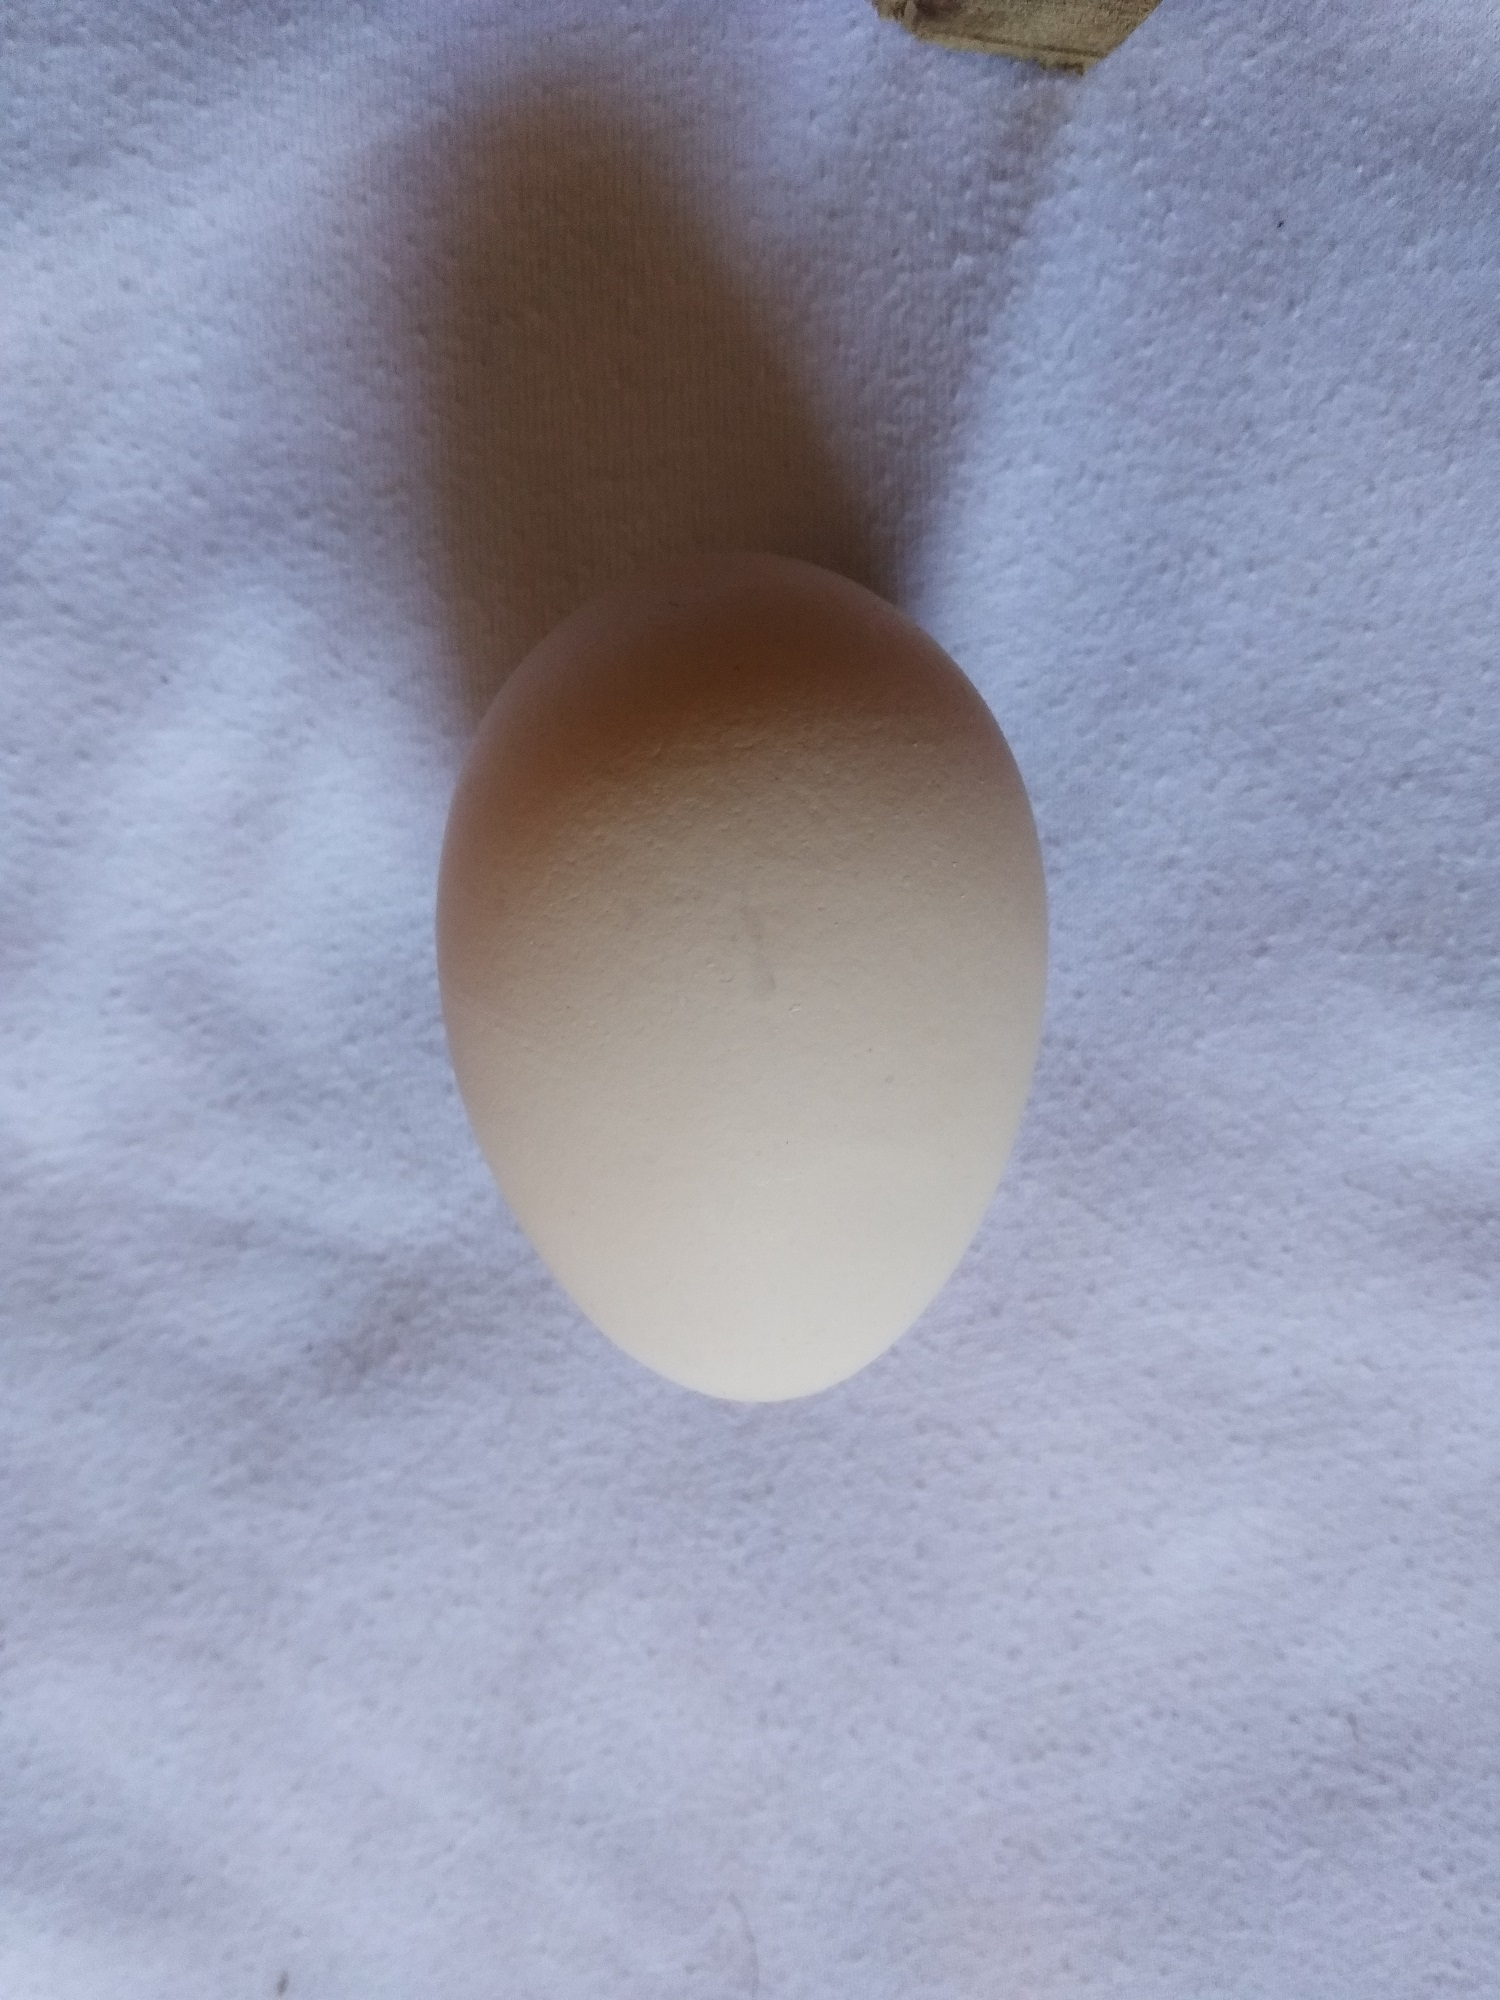Male: (422, 543, 1060, 1417)
